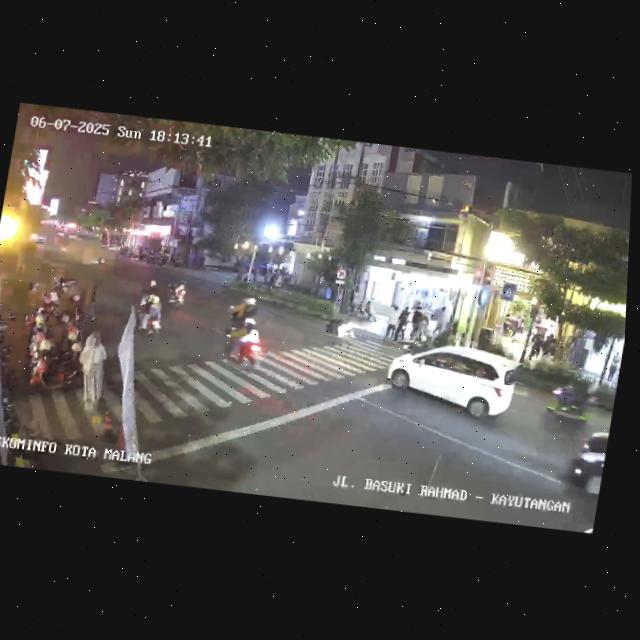car: (383, 338, 523, 428), (559, 420, 609, 505)
motorcycle: (216, 314, 269, 377), (540, 377, 596, 434), (136, 292, 166, 340), (224, 293, 261, 325), (321, 312, 358, 343), (166, 277, 190, 310)
person: (72, 327, 112, 408), (83, 282, 103, 320), (381, 306, 399, 345), (395, 305, 410, 340), (605, 348, 620, 383), (527, 331, 542, 365), (409, 305, 422, 341), (432, 305, 446, 338)
